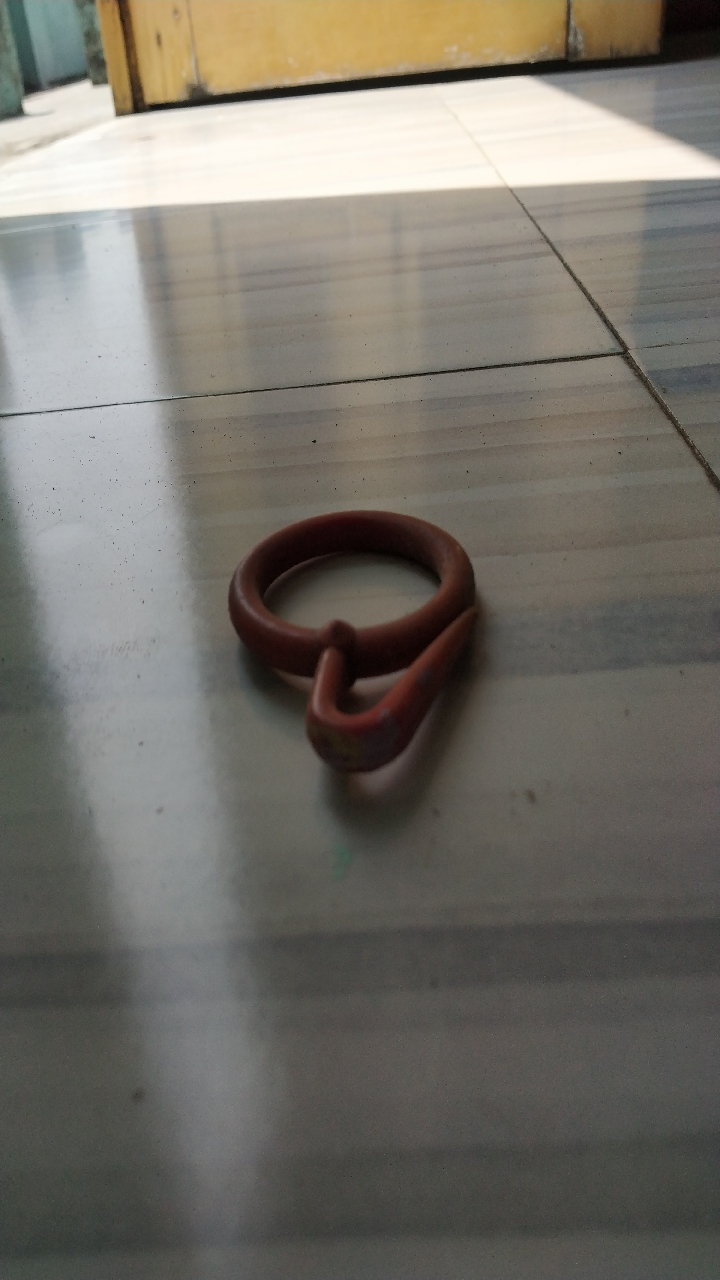Doors: (82, 2, 706, 130)
garments: (227, 475, 485, 776)
